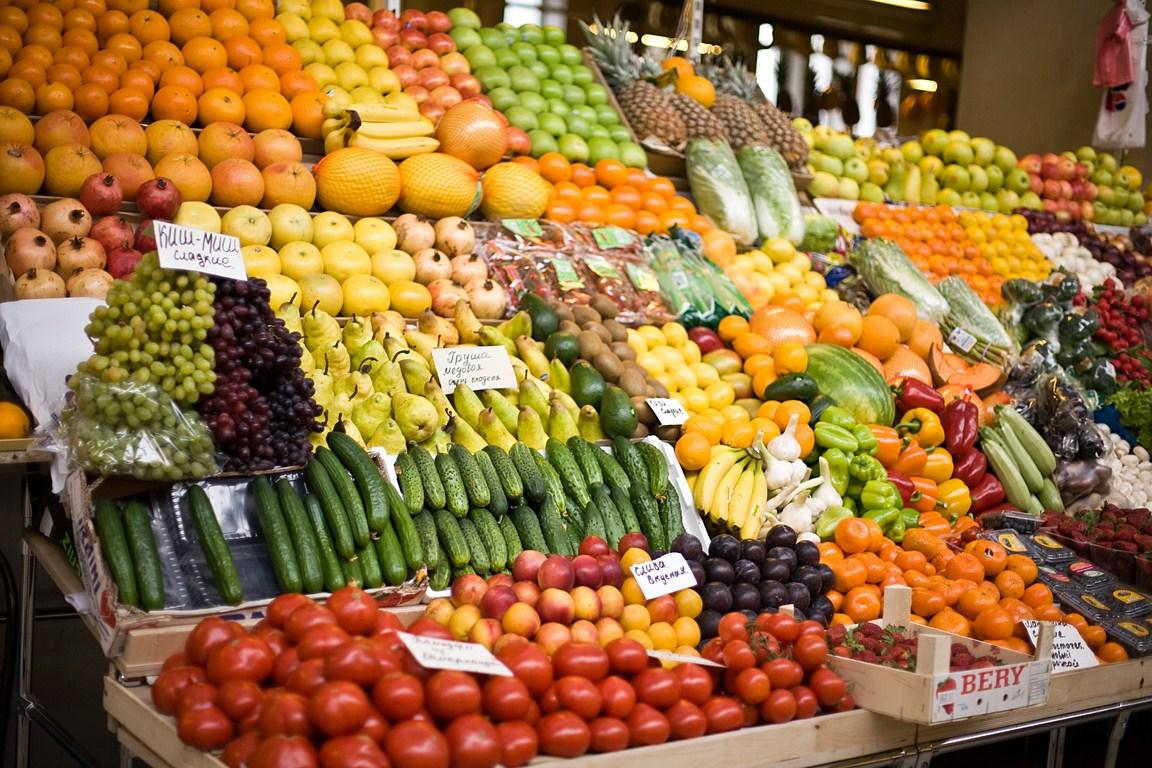banana: (320, 96, 444, 159), (701, 440, 775, 538)
cabbage: (685, 140, 813, 252)
cucumber: (261, 436, 683, 578), (97, 476, 250, 608)
garlic: (759, 428, 844, 541)
grapes: (67, 259, 218, 472), (213, 267, 314, 465)
green apple: (463, 13, 650, 158), (802, 114, 1030, 208), (1086, 148, 1150, 229)
lemon: (277, 0, 416, 117), (625, 324, 752, 423), (958, 210, 1057, 284)
mandarin: (975, 538, 1127, 662), (856, 203, 1008, 311), (821, 529, 966, 627), (678, 414, 816, 460)
orange: (3, 0, 313, 129)
pear: (283, 299, 603, 441)
pineapple: (587, 21, 811, 163)
pomegranate: (0, 174, 181, 293), (399, 213, 503, 317)
red apple: (358, 3, 486, 108), (1023, 152, 1098, 218)
sweet pepper: (893, 381, 1006, 520), (813, 423, 921, 543)
tomato: (154, 609, 716, 768), (708, 606, 853, 749)
watermelon: (796, 344, 897, 426)
